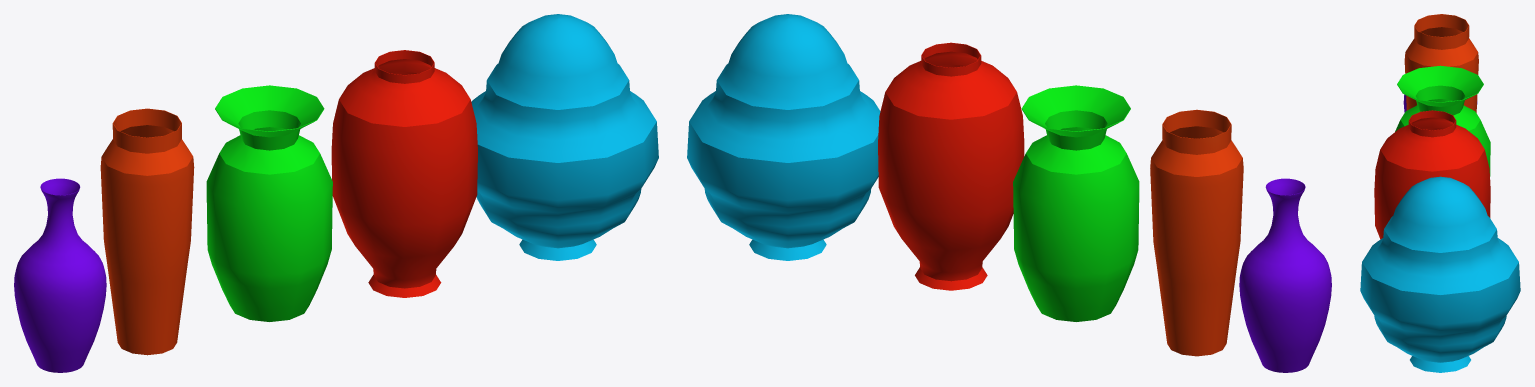
File: Vases1-5.fbx
3 renders of one model, left to right at view 1: azimuth 30°, elevation 25°; view 2: azimuth 150°, elevation 25°; view 3: azimuth 270°, elevation 25°, orthographic. The views are drawn at different scales.
Visible parts, largest first — view 1: Cube.005, Cube.004, Cube.003, Cube.002, Cube; view 2: Cube.005, Cube.004, Cube.003, Cube.002, Cube; view 3: Cube.005, Cube.004, Cube.003, Cube.002.
Part boxes in pixels (x1=…): Cube.005: x1=471, y1=14, x2=658, y2=260; Cube.004: x1=331, y1=50, x2=477, y2=297; Cube.003: x1=206, y1=85, x2=332, y2=321; Cube.002: x1=100, y1=108, x2=194, y2=355; Cube: x1=14, y1=178, x2=106, y2=372; Cube.005: x1=687, y1=14, x2=880, y2=260; Cube.004: x1=878, y1=42, x2=1024, y2=290; Cube.003: x1=1013, y1=85, x2=1139, y2=321; Cube.002: x1=1150, y1=109, x2=1243, y2=356; Cube: x1=1239, y1=178, x2=1331, y2=372; Cube.005: x1=1360, y1=176, x2=1520, y2=372; Cube.004: x1=1374, y1=110, x2=1490, y2=239; Cube.003: x1=1395, y1=65, x2=1490, y2=176; Cube.002: x1=1404, y1=14, x2=1478, y2=112.
Bounding box in the file's own units: 1343 × 464 × 375.
